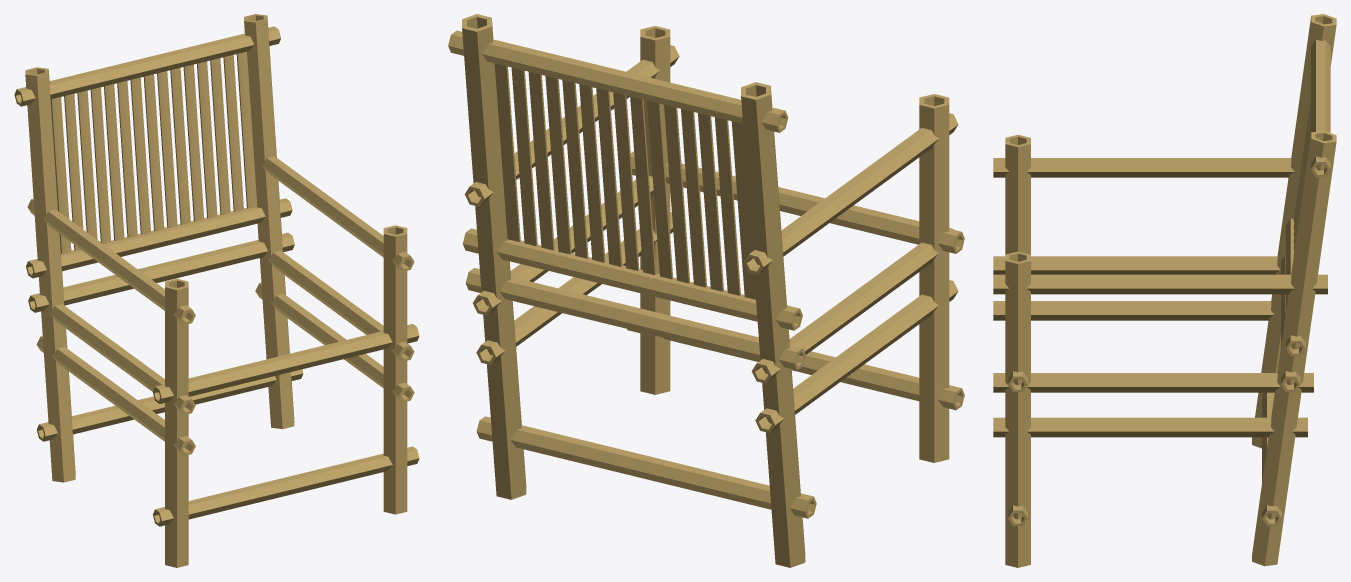
The model's file is ghe_tre_banh.far.glb.
3 renders of one model, left to right at view 1: azimuth 30°, elevation 25°; view 2: azimuth 150°, elevation 25°; view 3: azimuth 270°, elevation 25°, orthographic. The views are drawn at different scales.
Parts seen in each view (by area): view 1: ghe_tre_banh; view 2: ghe_tre_banh; view 3: ghe_tre_banh.
Part boxes in pixels (x1,y1,x2,y2): ghe_tre_banh: (14,14,419,567); ghe_tre_banh: (448,14,964,567); ghe_tre_banh: (993,14,1336,567).
Bounding box in the file's own units: 0.66 × 0.9533 × 0.6958.
